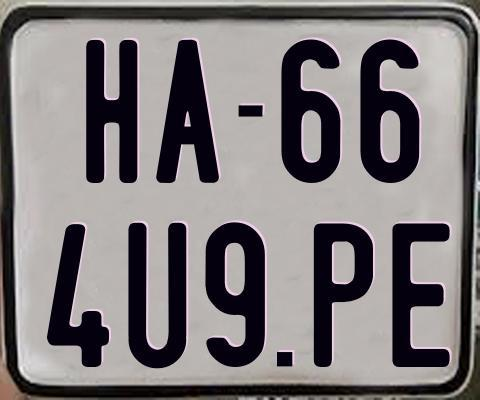4: (46, 221, 109, 366)
6: (279, 36, 344, 181), (359, 38, 419, 184)
9: (204, 220, 264, 366)
A: (155, 40, 218, 188)
E: (392, 220, 456, 368)
H: (83, 40, 134, 183)
P: (313, 222, 378, 369)
U: (128, 223, 192, 369)
